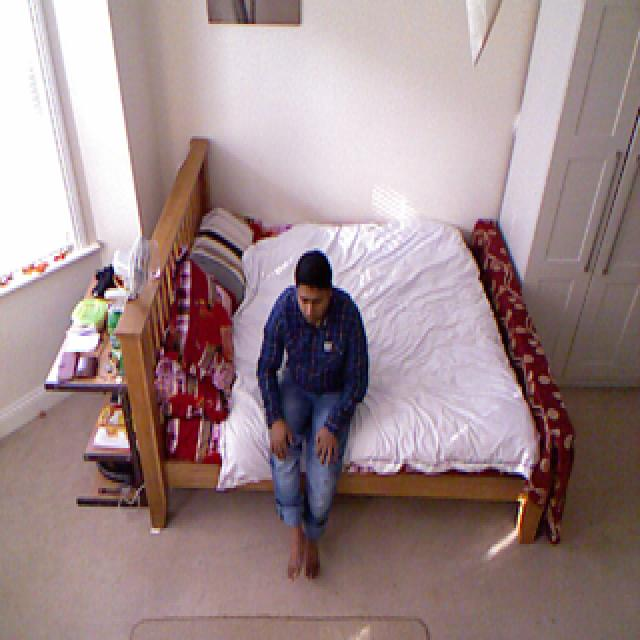sitting: (259, 248, 370, 578)
